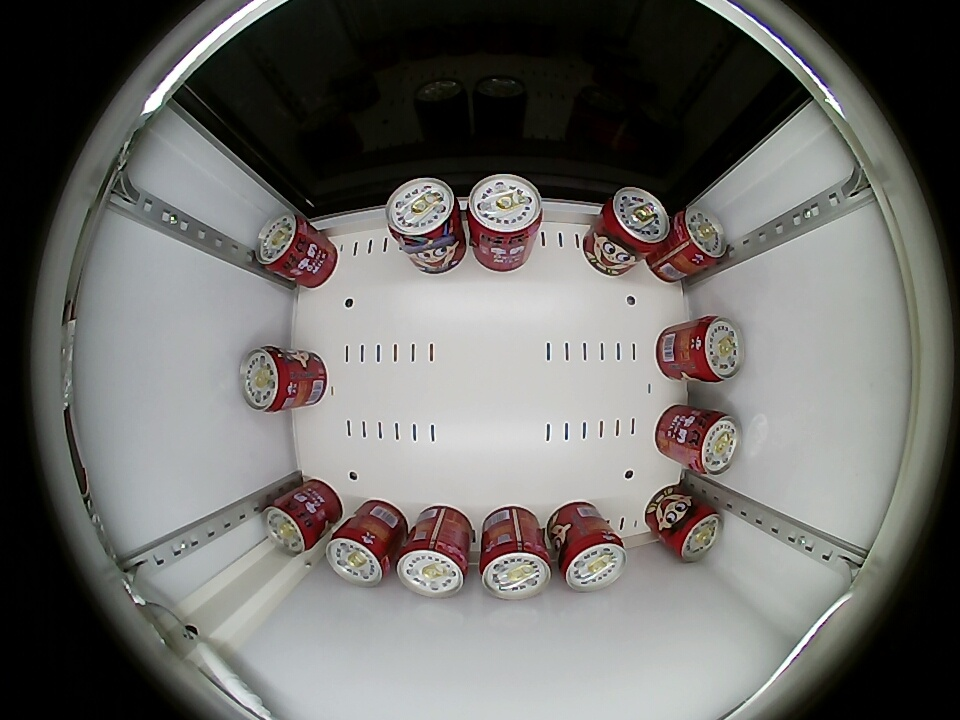wangzainiunai: (466, 174, 544, 257), (385, 177, 464, 256), (595, 186, 670, 264), (479, 522, 553, 600), (396, 525, 471, 598), (553, 521, 627, 592), (326, 518, 396, 587), (260, 489, 325, 557), (666, 203, 728, 274), (254, 212, 319, 278), (684, 314, 744, 384), (681, 409, 741, 477), (240, 346, 300, 413), (664, 497, 722, 562)
